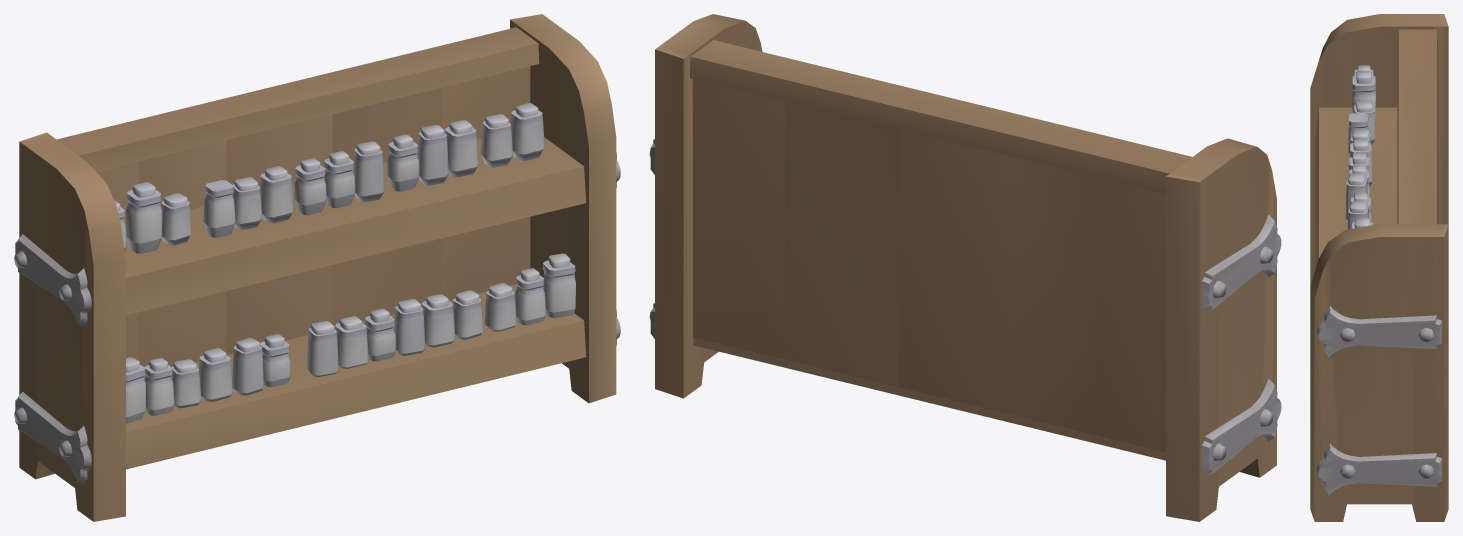
File: Shelf_Small_Bottles.glb
3 renders of one model, left to right at view 1: azimuth 30°, elevation 25°; view 2: azimuth 150°, elevation 25°; view 3: azimuth 270°, elevation 25°, orthographic. The views are drawn at different scales.
Parts seen in each view (by area): view 1: Shelf_Small_Bottles_9c7362, Shelf_Small_Bottles_676a06, Shelf_Small_Bottles_6b452c; view 2: Shelf_Small_Bottles_9c7362, Shelf_Small_Bottles_6b452c; view 3: Shelf_Small_Bottles_9c7362, Shelf_Small_Bottles_6b452c, Shelf_Small_Bottles_676a06.
Boxes of the visible parts, x1,y1,x2,y2 form: Shelf_Small_Bottles_9c7362: (19,14,616,521); Shelf_Small_Bottles_676a06: (114,103,575,423); Shelf_Small_Bottles_6b452c: (14,152,620,485); Shelf_Small_Bottles_9c7362: (655,14,1276,521); Shelf_Small_Bottles_6b452c: (649,139,1281,476); Shelf_Small_Bottles_9c7362: (1310,14,1448,521); Shelf_Small_Bottles_6b452c: (1316,306,1442,495); Shelf_Small_Bottles_676a06: (1345,65,1375,229).
Size of the model in its own units: 1.14 by 0.6474 by 0.2846.
